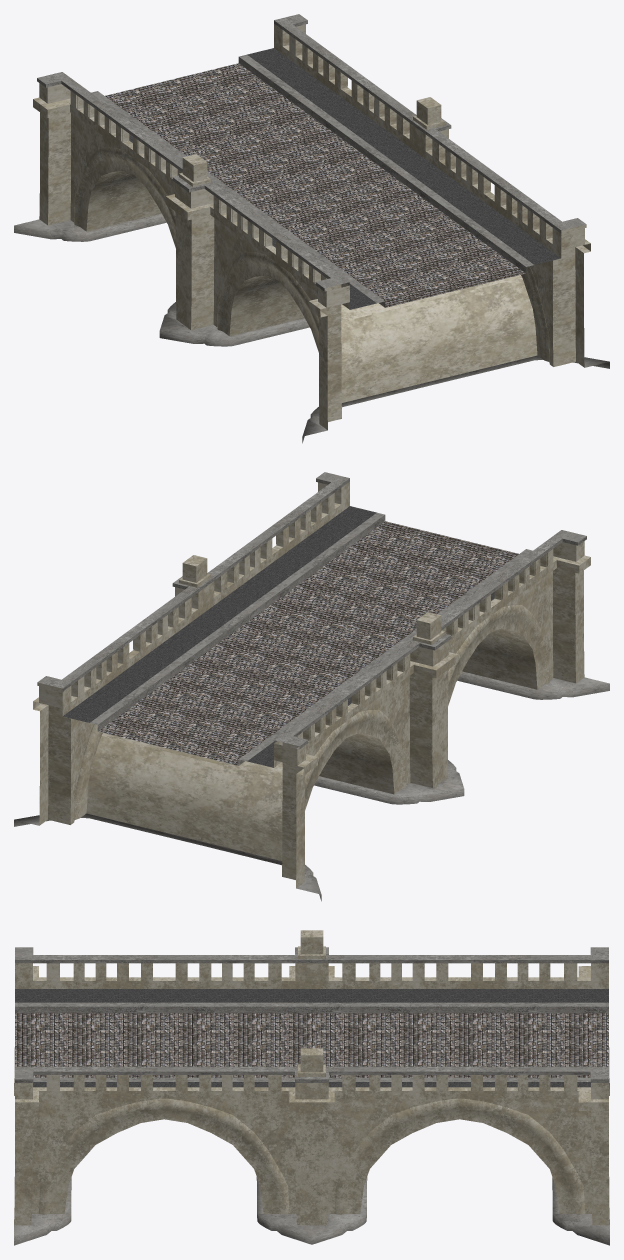
File: bridge_5.glb
3 renders of one model, top to bottom at view 1: azimuth 30°, elevation 25°; view 2: azimuth 150°, elevation 25°; view 3: azimuth 270°, elevation 25°, orthographic. The views are drawn at different scales.
Visible parts, largest first — view 1: Box002_Material #40_0, Road_Road_0, foothold_Material #39_0, Sidewalk_Material #38_0; view 2: Box002_Material #40_0, Road_Road_0, foothold_Material #39_0, Sidewalk_Material #38_0; view 3: Box002_Material #40_0, Road_Road_0, foothold_Material #39_0, Sidewalk_Material #38_0.
Part boxes in pixels (x1,y1,x2,y2): Box002_Material #40_0: [33, 24, 590, 429]; Road_Road_0: [105, 63, 525, 307]; foothold_Material #39_0: [14, 14, 609, 443]; Sidewalk_Material #38_0: [129, 48, 560, 309]; Box002_Material #40_0: [33, 482, 590, 887]; Road_Road_0: [98, 521, 518, 765]; foothold_Material #39_0: [14, 472, 609, 901]; Sidewalk_Material #38_0: [63, 506, 494, 767]; Box002_Material #40_0: [14, 930, 609, 1225]; Road_Road_0: [15, 1013, 608, 1077]; foothold_Material #39_0: [14, 947, 609, 1245]; Sidewalk_Material #38_0: [15, 989, 608, 1087].
Bounding box in the file's own units: 142 × 74.72 × 230.
Materials: 4 (4 with a texture image).
